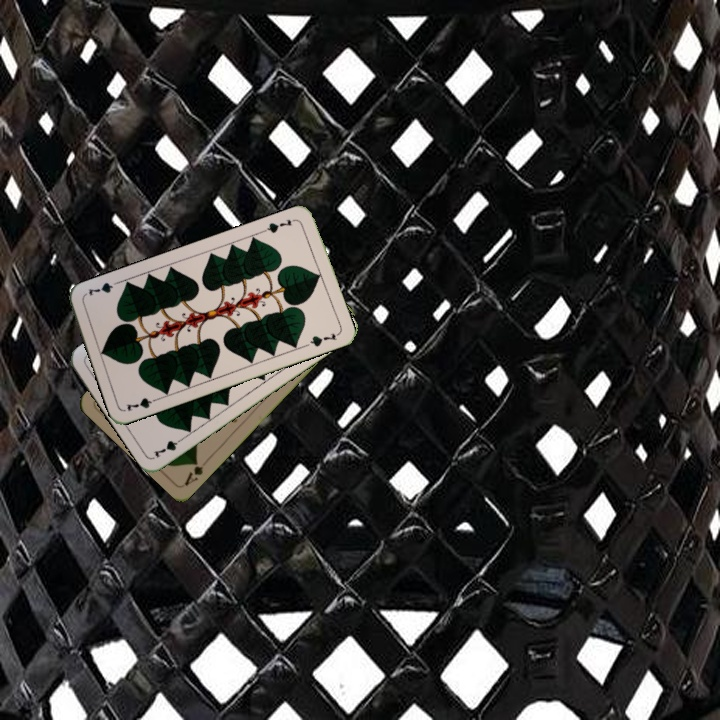G7: (150, 433, 188, 461), (122, 393, 162, 414), (260, 215, 299, 236)
GA: (181, 456, 206, 488)
